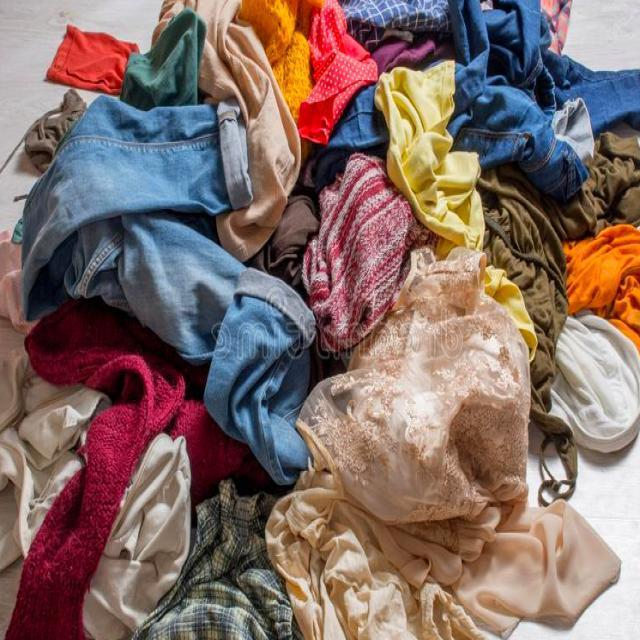clothes: (5, 81, 314, 457), (271, 255, 537, 640), (4, 306, 258, 640), (432, 0, 640, 224), (365, 46, 489, 264), (290, 157, 426, 343), (560, 224, 640, 414), (232, 0, 332, 138), (551, 312, 640, 462)
